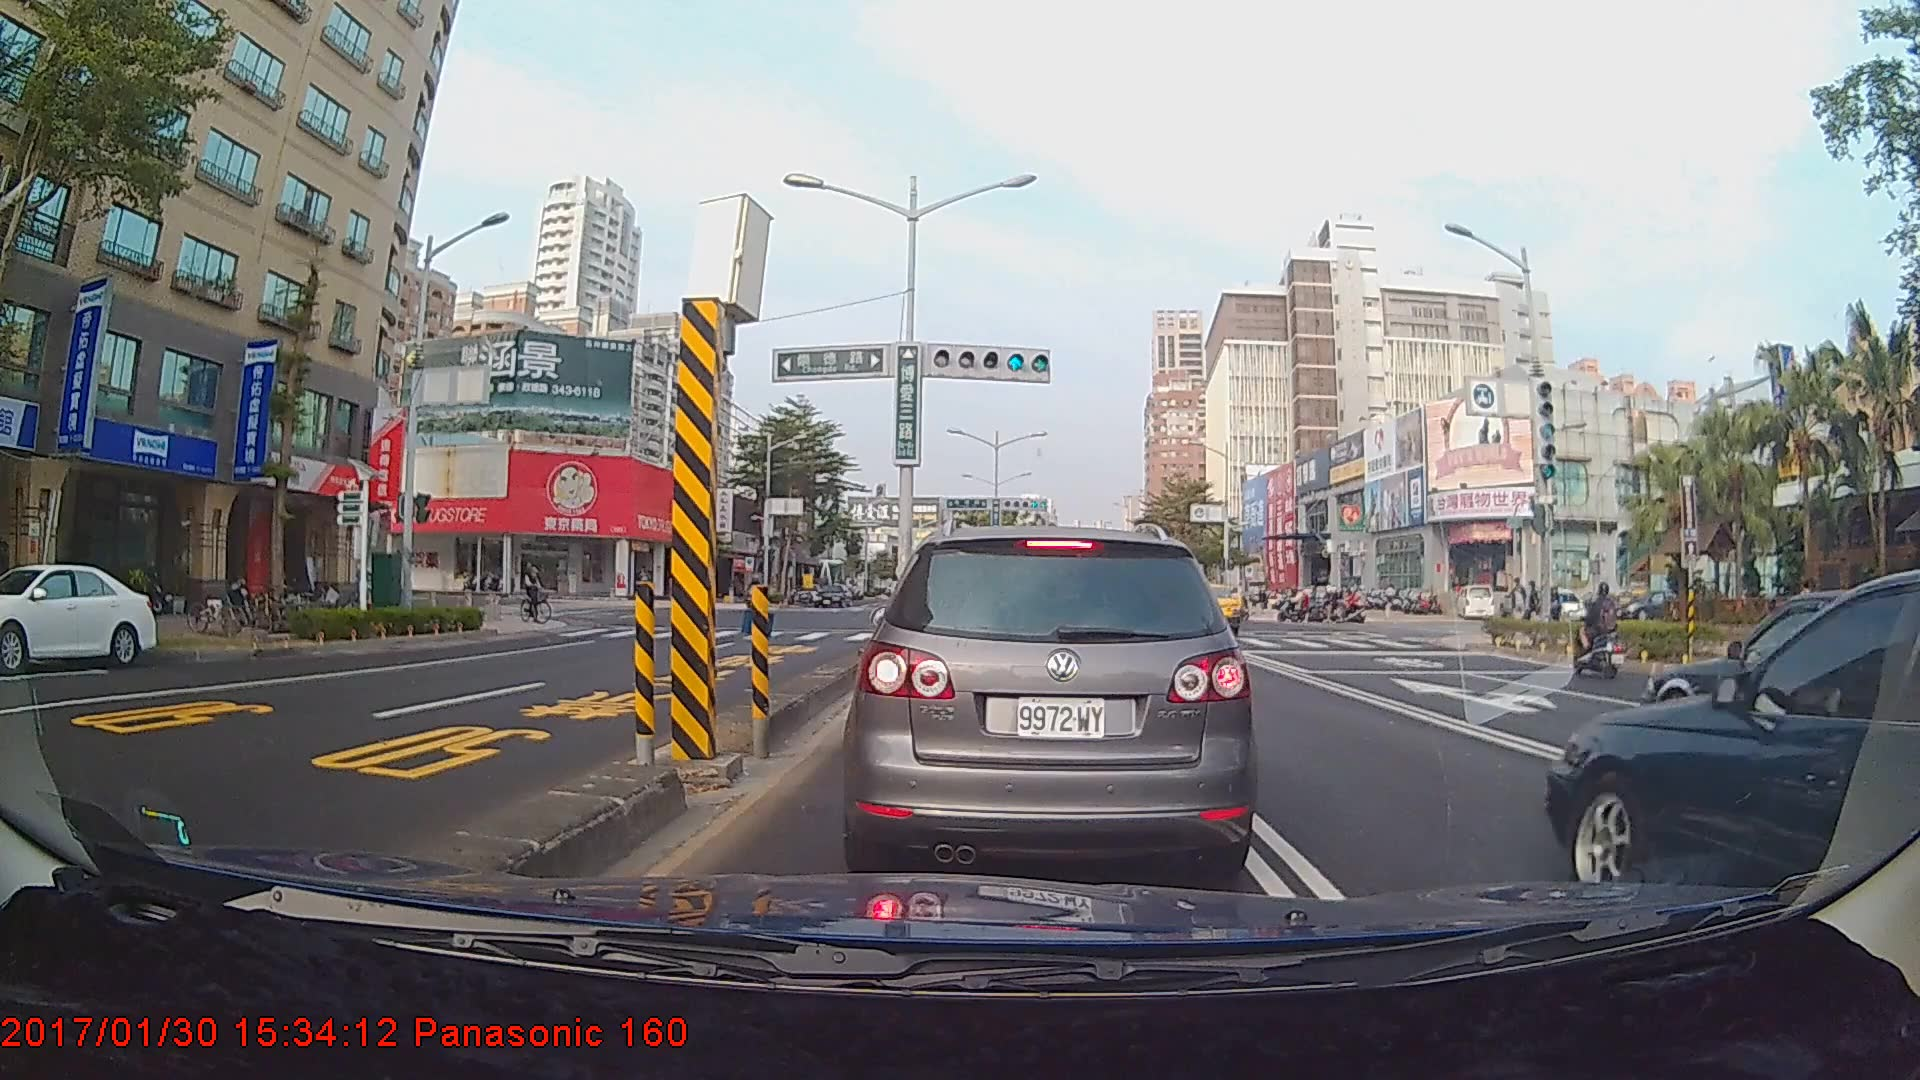rider: (1570, 580, 1628, 681), (518, 559, 561, 629)
vehicle: (853, 520, 1250, 880), (1549, 542, 1920, 920), (1639, 586, 1920, 756), (0, 561, 160, 671), (813, 584, 849, 608)
